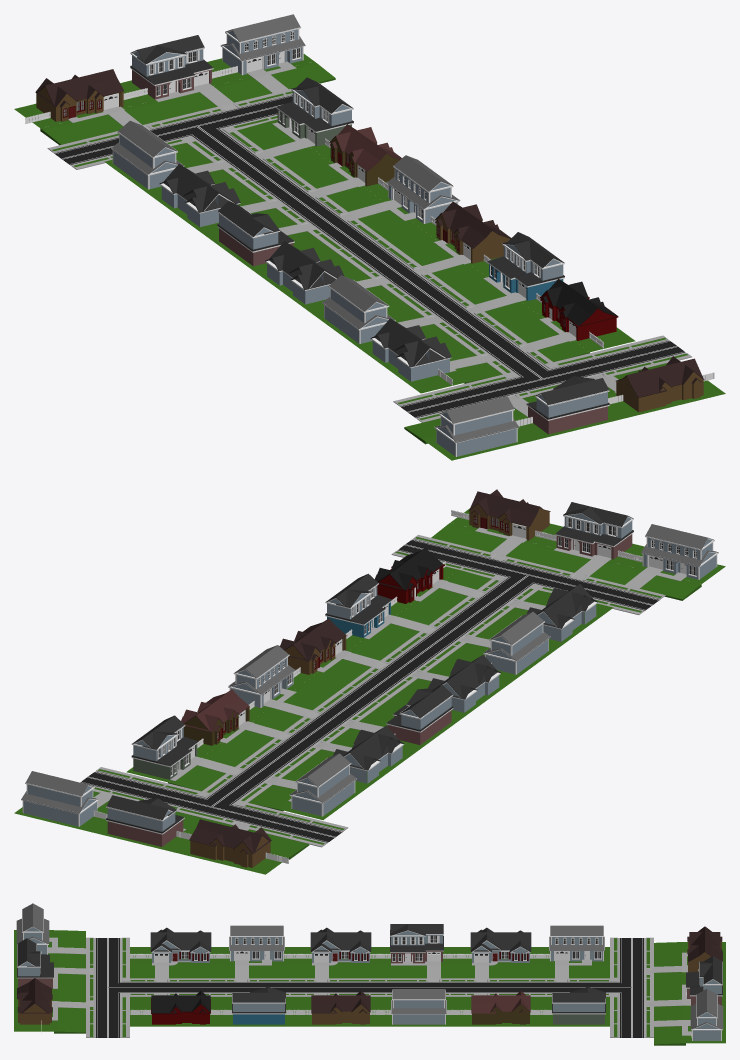
Rendered from Vecindario.fbx.
3 renders of one model, top to bottom at view 1: azimuth 30°, elevation 25°; view 2: azimuth 150°, elevation 25°; view 3: azimuth 270°, elevation 25°, orthographic. The views are drawn at different scales.
Visible parts, largest first — view 1: Object_55; view 2: Object_55; view 3: Object_55.
Part boxes in pixels (x1=…): Object_55: x1=14, y1=14, x2=725, y2=460; Object_55: x1=14, y1=489, x2=725, y2=874; Object_55: x1=14, y1=903, x2=725, y2=1045.
Bounding box in the file's own units: 26800 × 3485 × 71200.
